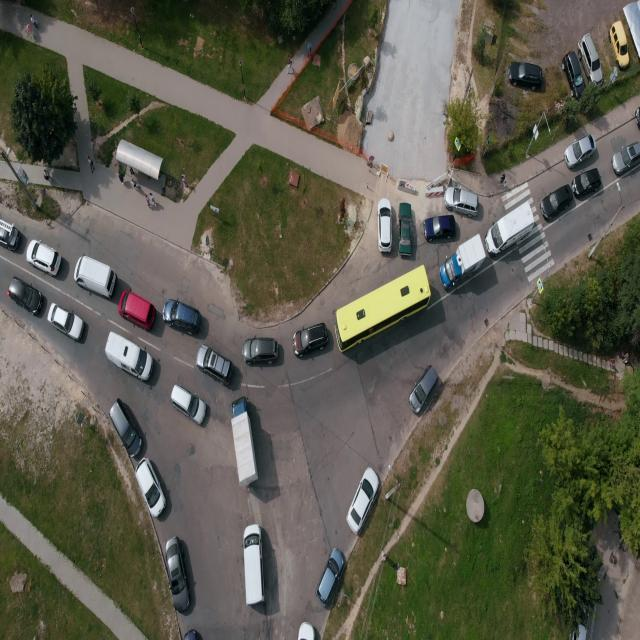vehicle: (333, 266, 431, 352), (421, 216, 477, 274), (439, 233, 486, 291), (484, 202, 534, 256), (230, 396, 258, 488), (105, 330, 153, 382), (346, 466, 380, 534), (164, 536, 190, 612), (109, 400, 142, 458), (74, 254, 116, 298), (136, 457, 166, 518), (243, 523, 265, 606), (315, 547, 345, 607), (118, 289, 156, 330), (196, 344, 233, 386), (408, 364, 439, 414), (170, 383, 206, 425), (47, 303, 84, 342), (578, 32, 604, 85), (163, 298, 201, 334), (8, 276, 42, 316), (292, 322, 328, 358), (26, 239, 61, 276), (540, 182, 573, 220), (444, 184, 480, 217), (564, 133, 597, 169), (623, 0, 640, 65), (562, 50, 584, 100), (611, 138, 640, 175), (508, 60, 544, 89), (242, 336, 279, 364), (610, 20, 630, 70), (572, 166, 602, 198), (423, 214, 456, 242), (398, 201, 412, 257), (378, 198, 392, 252), (0, 213, 20, 250), (570, 604, 590, 640), (297, 621, 314, 640), (635, 94, 640, 130), (148, 192, 157, 208), (25, 24, 35, 38), (287, 59, 295, 76), (44, 168, 52, 184), (87, 156, 95, 172), (29, 14, 38, 28), (145, 193, 152, 210), (130, 178, 138, 192), (621, 353, 630, 364), (118, 171, 125, 185), (182, 173, 188, 188), (500, 178, 508, 188), (381, 551, 387, 563), (500, 172, 506, 183), (307, 41, 312, 54), (609, 358, 615, 367), (620, 352, 625, 359)
